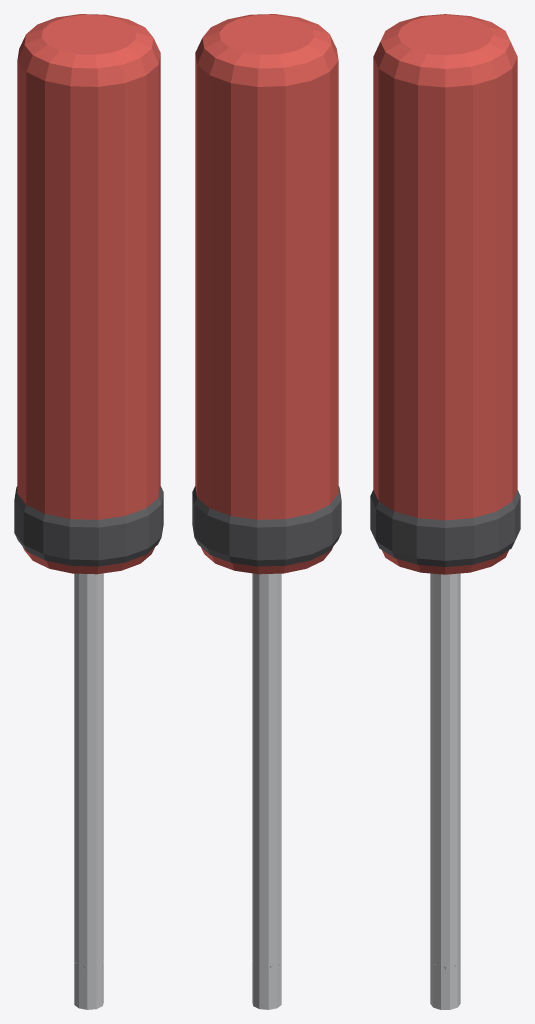
File: screwdriver.fbx
3 renders of one model, left to right at view 1: azimuth 30°, elevation 25°; view 2: azimuth 150°, elevation 25°; view 3: azimuth 270°, elevation 25°, orthographic.
Visible parts, largest first — view 1: screwdriver; view 2: screwdriver; view 3: screwdriver.
Boxes of the visible parts, x1=… form: screwdriver: x1=14, y1=14, x2=163, y2=1009; screwdriver: x1=192, y1=14, x2=341, y2=1009; screwdriver: x1=370, y1=14, x2=520, y2=1009.
Size of the model in its own units: 0.025 by 0.1775 by 0.025.
